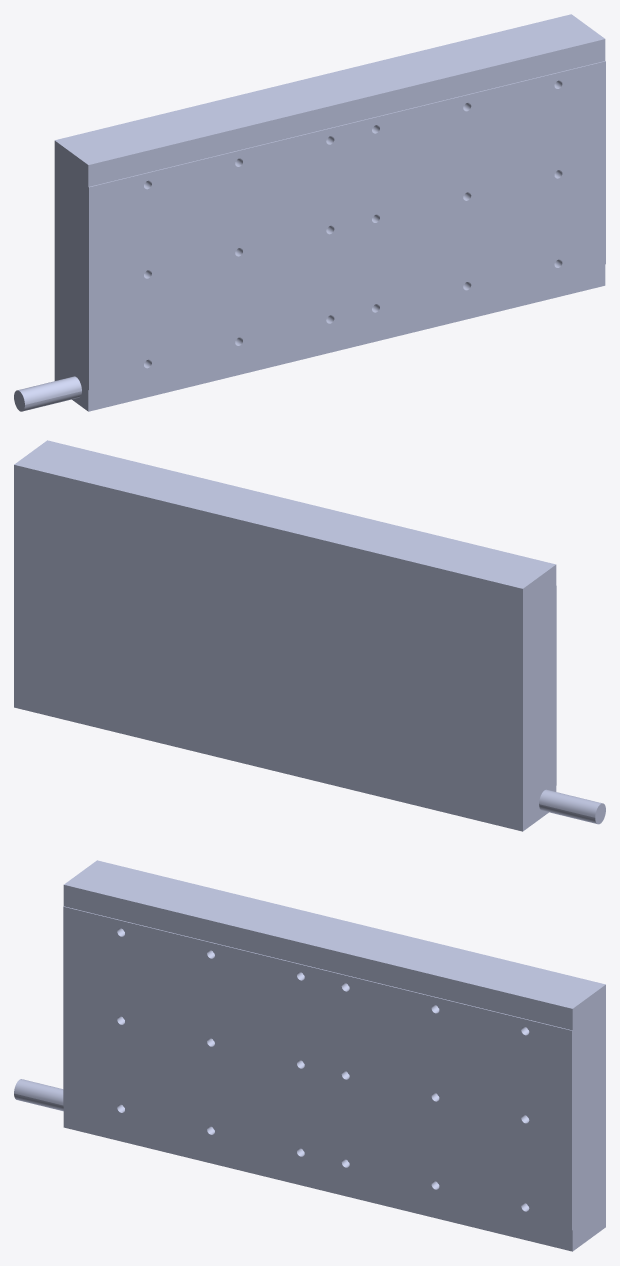
File: MTC-15.glb
3 renders of one model, top to bottom at view 1: azimuth 30°, elevation 25°; view 2: azimuth 150°, elevation 25°; view 3: azimuth 330°, elevation 25°, orthographic.
Visible parts, largest first — view 1: MTC-15_node_1; view 2: MTC-15_node_1; view 3: MTC-15_node_1.
Part boxes in pixels (x1,y1,x2,y2): MTC-15_node_1: (14, 14, 605, 411); MTC-15_node_1: (14, 440, 605, 831); MTC-15_node_1: (14, 860, 605, 1251).
Size of the model in its own units: 302 by 124 by 31.4.
